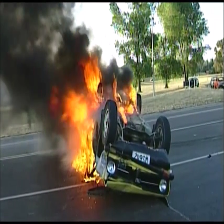fire_h: (60, 54, 111, 175), (113, 75, 139, 114), (50, 84, 59, 115)
fire_l: (83, 170, 101, 183), (118, 107, 126, 123)
